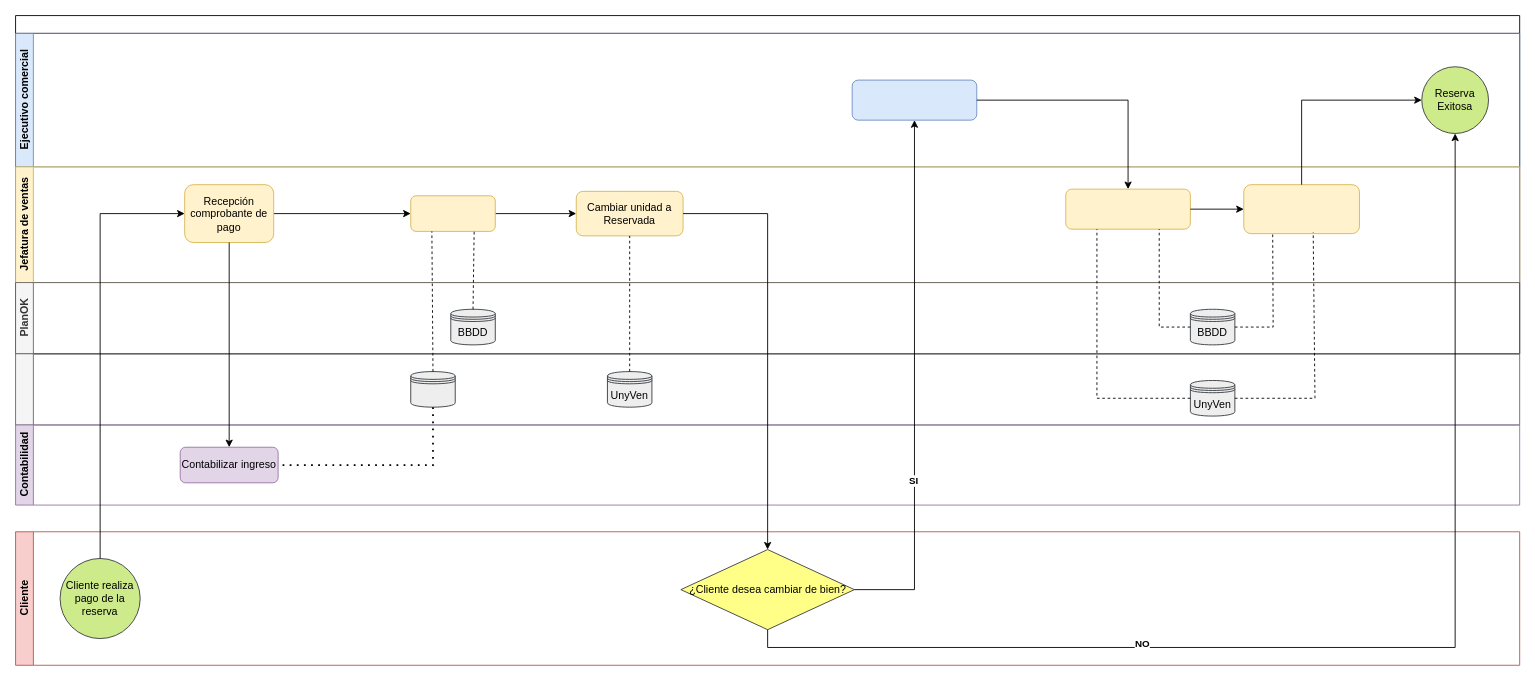
Image size: 1535x681. Some labels were removed from this diagram. The shapes that lost their labels are listed below. From the top down, each one's box as (x1, y1, x2, y2) in pixels, then its label:
(851, 79, 977, 120): Solicitar cambio de bien
(15, 15, 1520, 354): Proceso de reserva
(410, 195, 495, 231): Crear reserva
(1065, 188, 1190, 229): Autorizar cambio de bien
(1243, 184, 1359, 234): Cambiar unidad a Disponible y Reservar la nueva
(410, 371, 455, 407): Unyfin
(15, 353, 1520, 425): Unysoft
